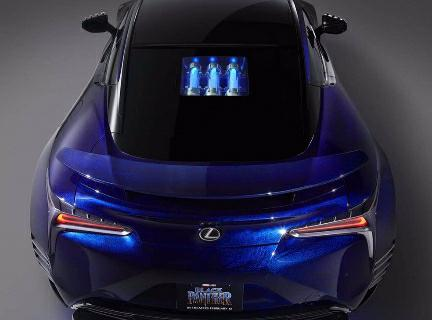雷克萨斯-LC: (28, 6, 397, 313)
